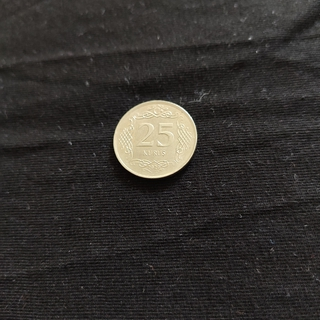25KURUS: (111, 98, 198, 181)
